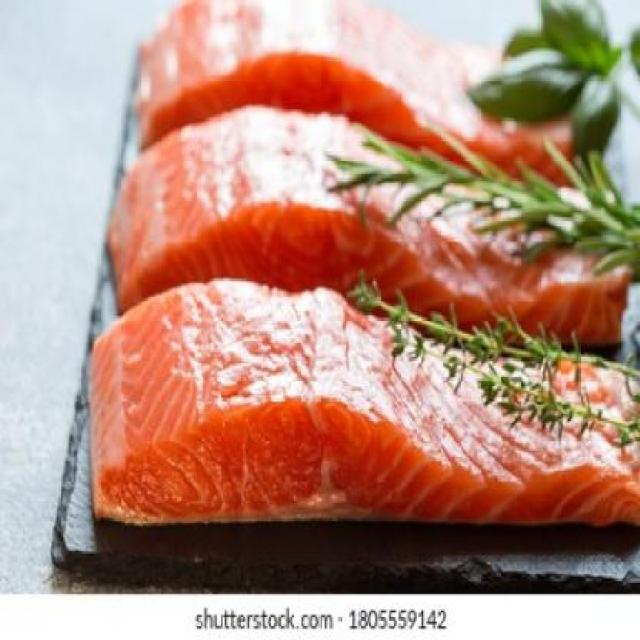salmon: (58, 269, 640, 555), (97, 106, 640, 360), (131, 2, 636, 200)
